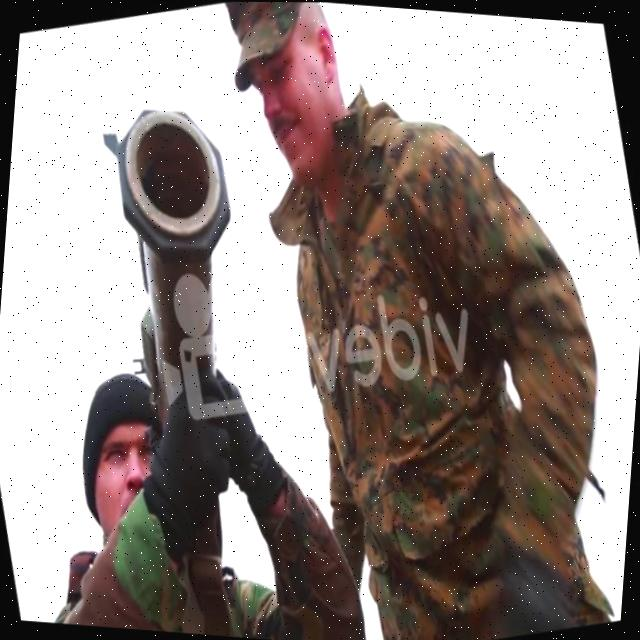rocket: (78, 89, 276, 421)
